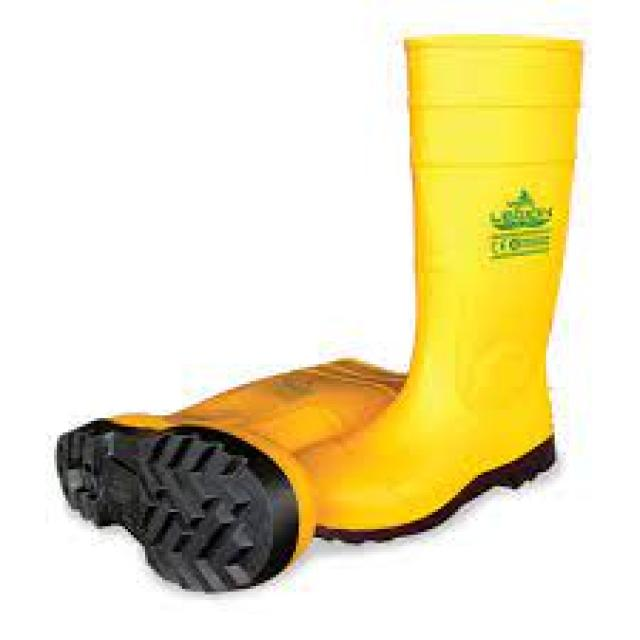shoes: (58, 35, 578, 589)
